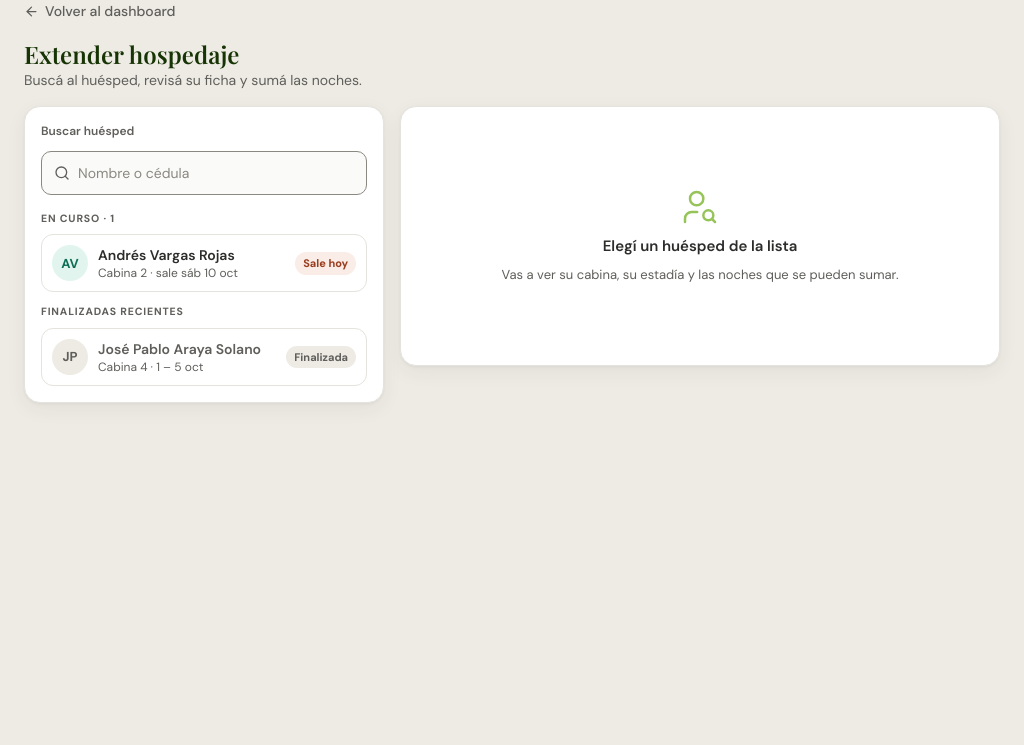
Test: HU-127 pantalla Extender hospedaje › CA-3: separa lo ya registrado (sin cambios) de las noches nuevas a tarifa actual
Click the text "Andrés Vargas Rojas".
click(166, 255)  # box 98,246 -> 235,264
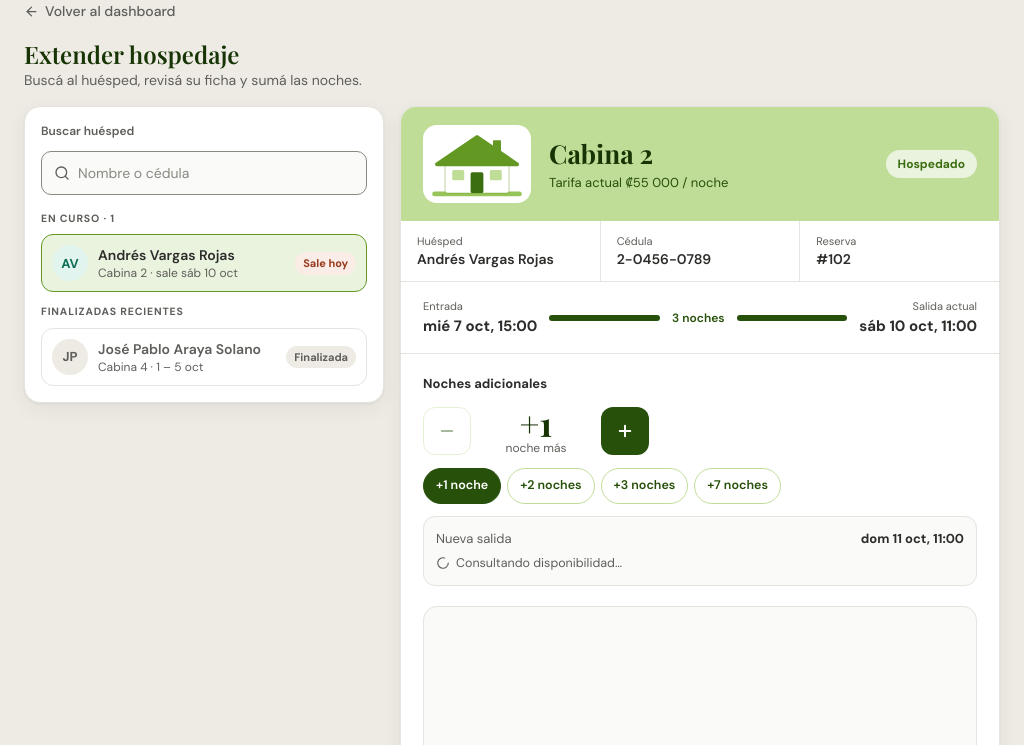
Click the button named "Sumar una noche".
click(625, 430)  # box 601,406 -> 649,454
(page scrolled)
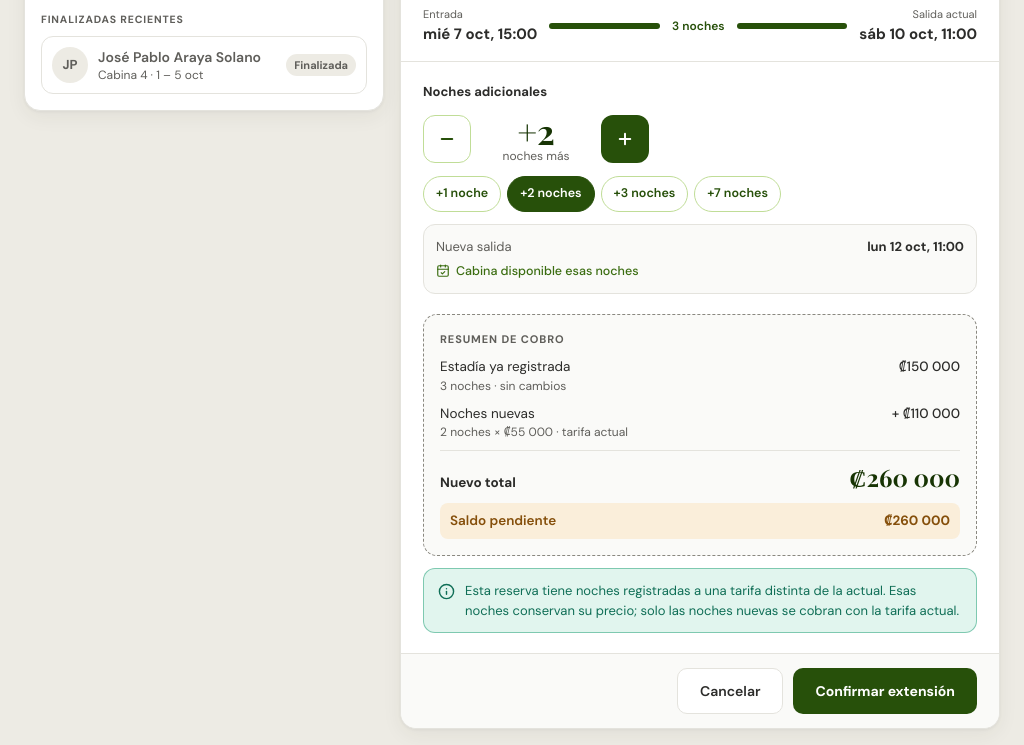
Expected: the text "Estadía ya registrada" is shown, 440,357 -> 570,378
Expected: the text "3 noches · sin cambios" is shown, 440,378 -> 570,394
Expected: the text "2 noches × ₡55 000 · tarifa actual" is shown, 440,424 -> 628,440
